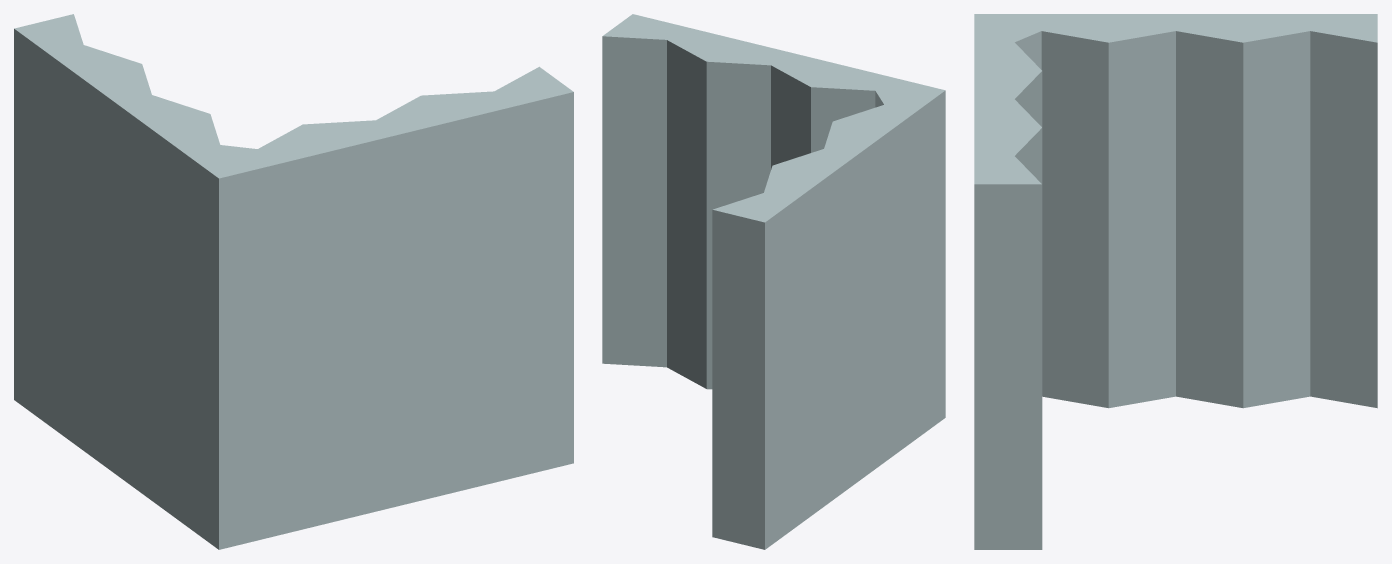
The model's file is cliff_cornerInner_stone.glb.
The picture shows the model from 3 angles, left to right: view 1: azimuth 30°, elevation 25°; view 2: azimuth 150°, elevation 25°; view 3: azimuth 270°, elevation 25°; orthographic projection. The views are drawn at different scales.
Parts seen in each view (by area): view 1: cliff_cornerInner_stone; view 2: cliff_cornerInner_stone; view 3: cliff_cornerInner_stone.
Boxes of the visible parts, bbox=[...] form: cliff_cornerInner_stone: bbox=[14, 14, 573, 549]; cliff_cornerInner_stone: bbox=[602, 14, 945, 549]; cliff_cornerInner_stone: bbox=[974, 14, 1377, 549].
Bounding box in the file's own units: 1 × 1 × 1.
